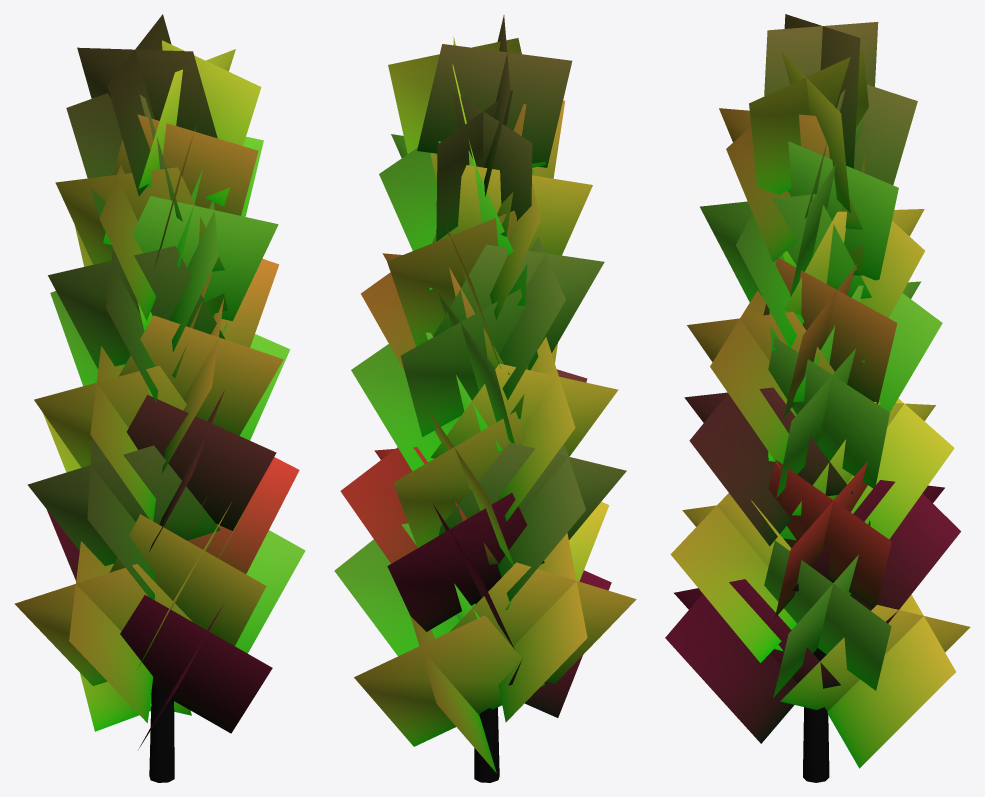
The model's file is Tree_3.fbx.
The picture shows the model from 3 angles, left to right: view 1: azimuth 30°, elevation 25°; view 2: azimuth 150°, elevation 25°; view 3: azimuth 270°, elevation 25°; orthographic projection.
Parts seen in each view (by area): view 1: Tree_3; view 2: Tree_3; view 3: Tree_3.
Boxes of the visible parts, left/top/right/bottom form: Tree_3: left=14, top=14, right=305, bottom=782; Tree_3: left=334, top=15, right=636, bottom=782; Tree_3: left=665, top=14, right=970, bottom=782.
Size of the model in its own units: 668 by 1866 by 689.
